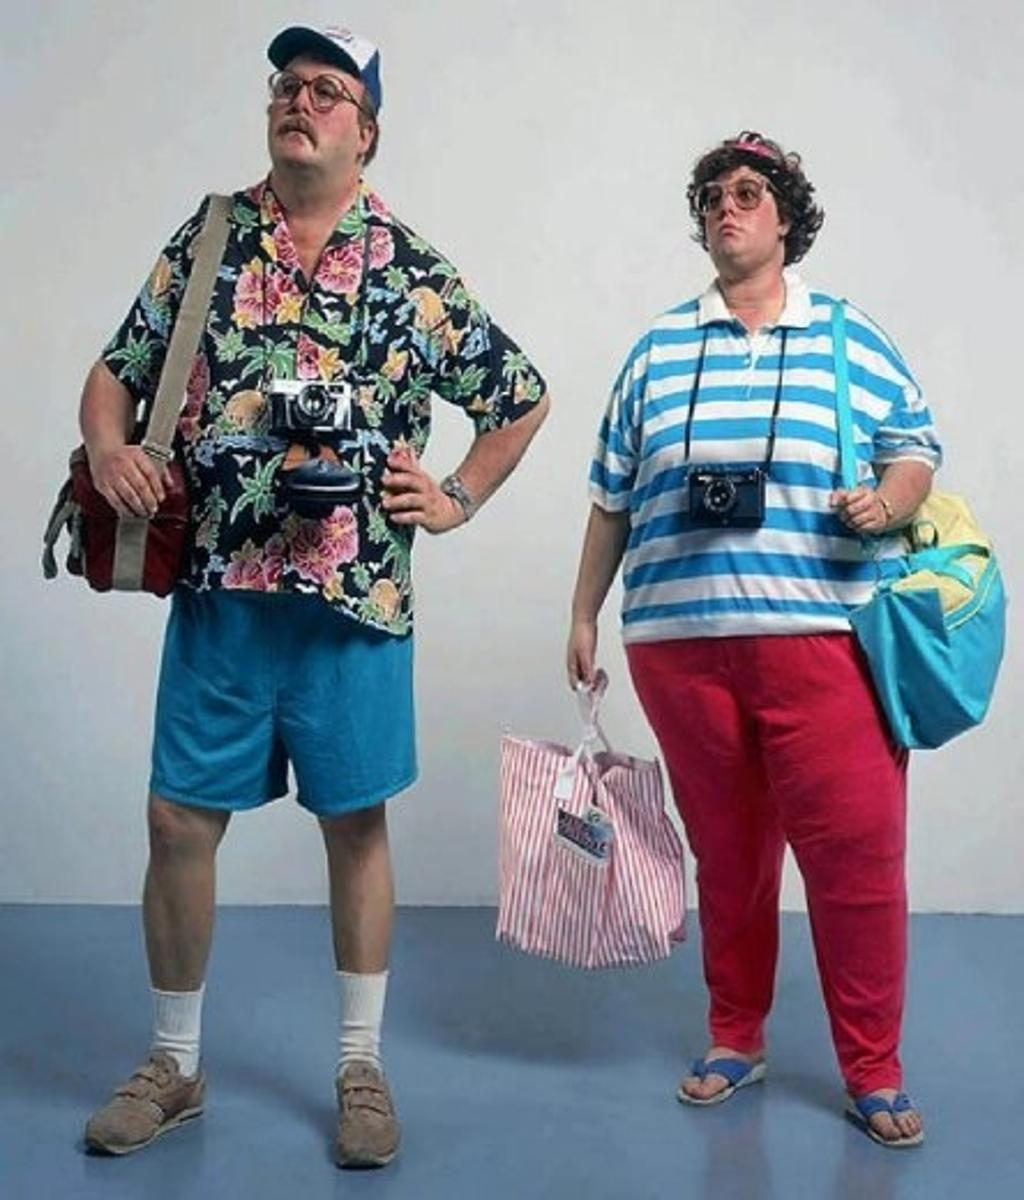face: (703, 150, 785, 262), (267, 52, 347, 160)
